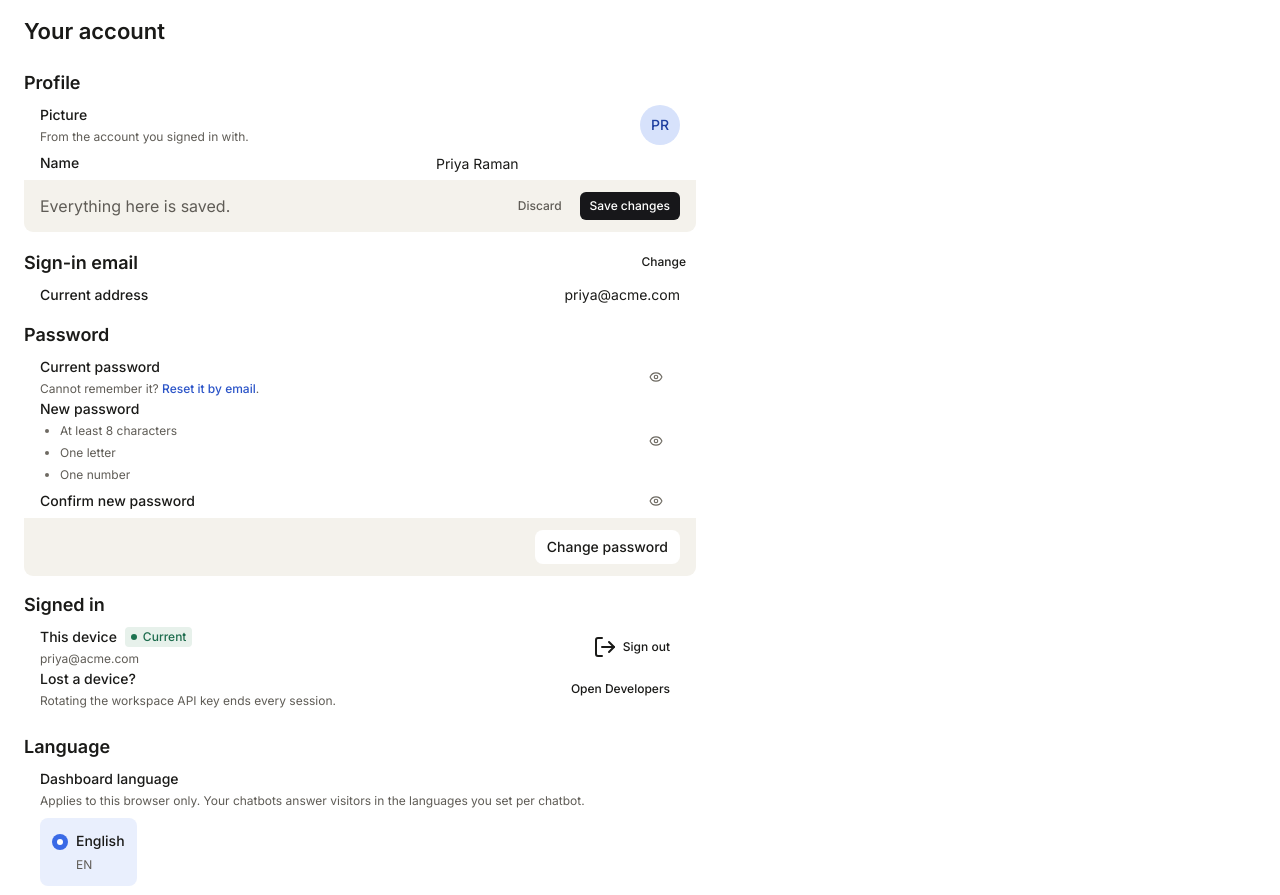
SettingsPage › confirms before signing out, and says what is lost
The width and height of the screenshot is (1280, 895).
Expected: the field showing "Priya Raman" is shown, 424,146 -> 680,180
Click the button "Sign out" at (631, 647), box 583,633 -> 680,661
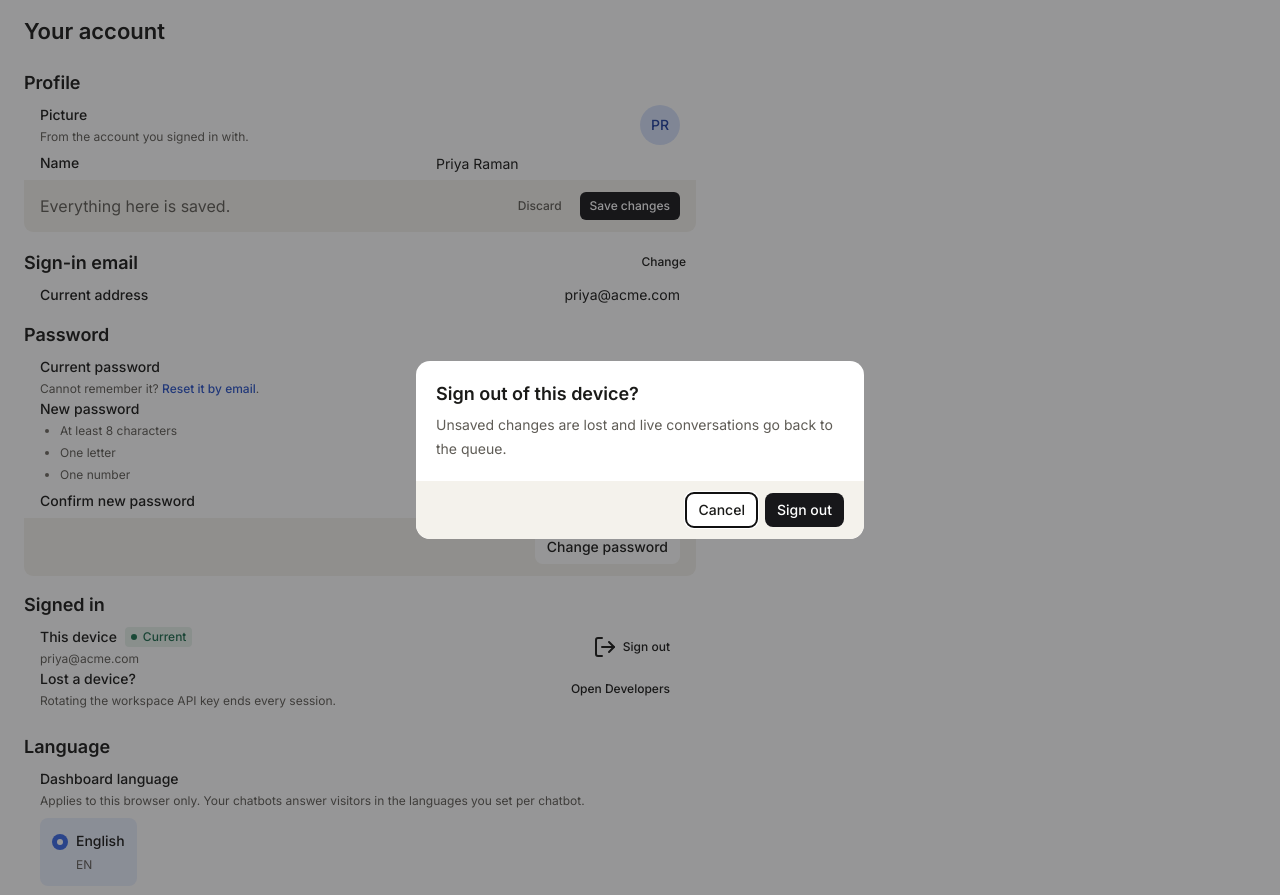
Result: the dialog shows "go back to the queue" at 436,416 -> 833,457
